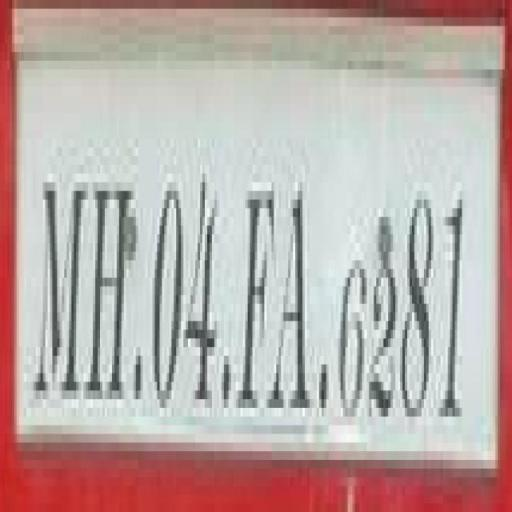number plate: (0, 18, 488, 461)
